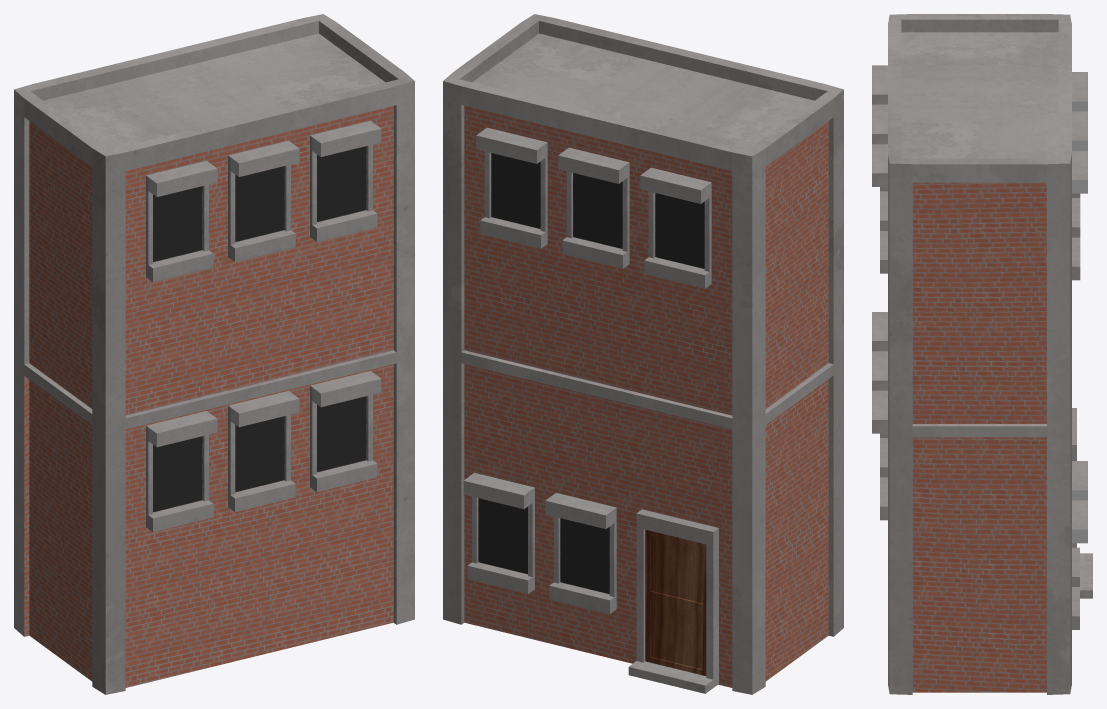
The model's file is building_3_001.glb.
3 views of the same model, side by side, from view 1: azimuth 30°, elevation 25°; view 2: azimuth 150°, elevation 25°; view 3: azimuth 270°, elevation 25° (orthographic).
Visible parts, largest first — view 1: building_3.001; view 2: building_3.001; view 3: building_3.001.
Part boxes in pixels (left/top/right/bottom): building_3.001: left=14, top=14, right=414, bottom=694; building_3.001: left=443, top=14, right=843, bottom=694; building_3.001: left=872, top=14, right=1092, bottom=694.
Bounding box in the file's own units: 4.13 × 6.8 × 2.56.
1 material, 1 textured.
